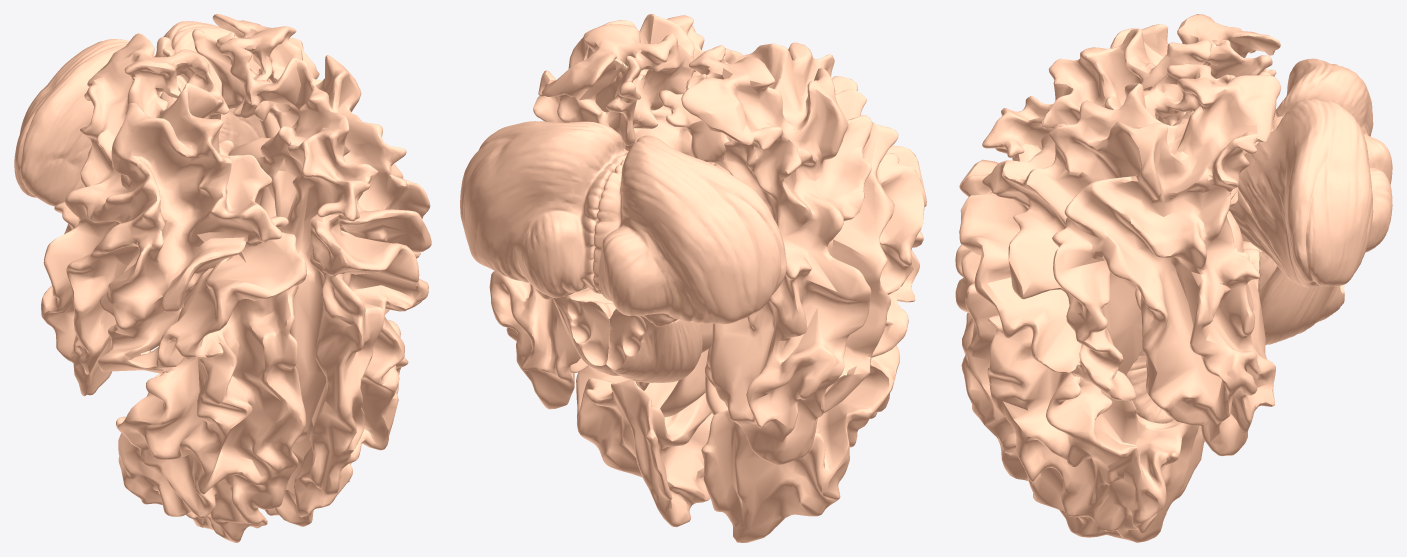
File: brain.glb
The picture shows the model from 3 angles, left to right: view 1: azimuth 30°, elevation 25°; view 2: azimuth 150°, elevation 25°; view 3: azimuth 270°, elevation 25°; orthographic projection. The views are drawn at different scales.
Parts seen in each view (by area): view 1: grp1, grp1_1, grp1_2, grp1_3, grp1_5; view 2: grp1, grp1_1, grp1_2, grp1_3, grp1_6, grp1_7, grp1_5; view 3: grp1_1, grp1_3, grp1, grp1_2, grp1_7, grp1_9.
Boxes of the visible parts, left/top/right/bottom form: grp1: left=41, top=33, right=306, bottom=542; grp1_1: left=192, top=14, right=431, bottom=526; grp1_2: left=14, top=39, right=179, bottom=206; grp1_3: left=163, top=21, right=265, bottom=149; grp1_5: left=259, top=113, right=279, bottom=217; grp1: left=658, top=42, right=926, bottom=542; grp1_1: left=489, top=14, right=742, bottom=527; grp1_2: left=593, top=135, right=786, bottom=326; grp1_3: left=460, top=121, right=628, bottom=299; grp1_6: left=606, top=309, right=702, bottom=382; grp1_7: left=552, top=288, right=620, bottom=375; grp1_5: left=570, top=141, right=708, bottom=417; grp1_1: left=955, top=63, right=1280, bottom=542; grp1_3: left=1229, top=98, right=1392, bottom=287; grp1: left=955, top=14, right=1280, bottom=354; grp1_2: left=1272, top=58, right=1392, bottom=184; grp1_7: left=1258, top=251, right=1344, bottom=345; grp1_9: left=1126, top=350, right=1173, bottom=423.
Bounding box in the file's own units: 126 × 163 × 136.
